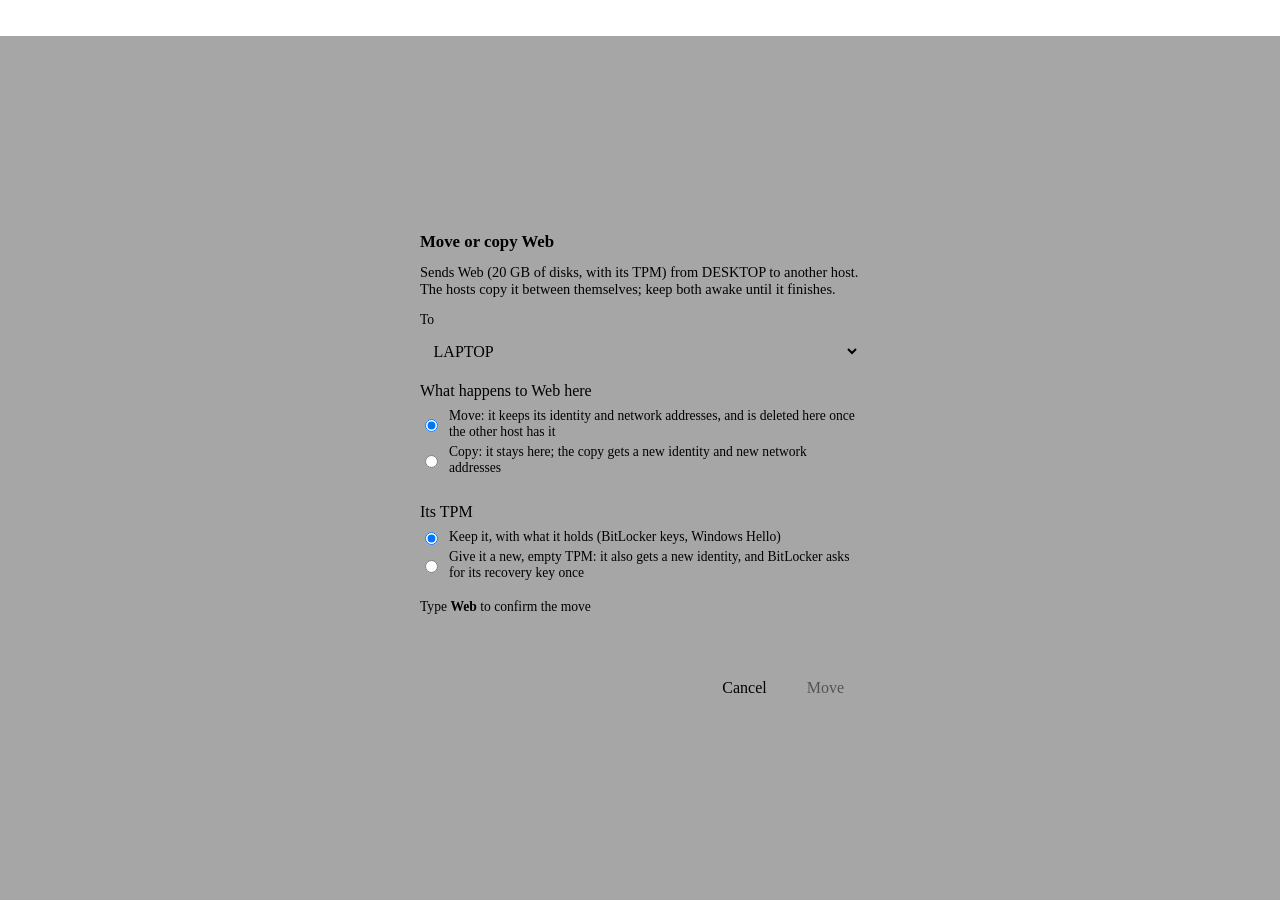
Test: TransferVmDialog › sends the TPM choice to both hosts
This screenshot has width=1280, height=900.
Click the radio button labelled "Copy" at (432, 462), box [425,455,438,468]
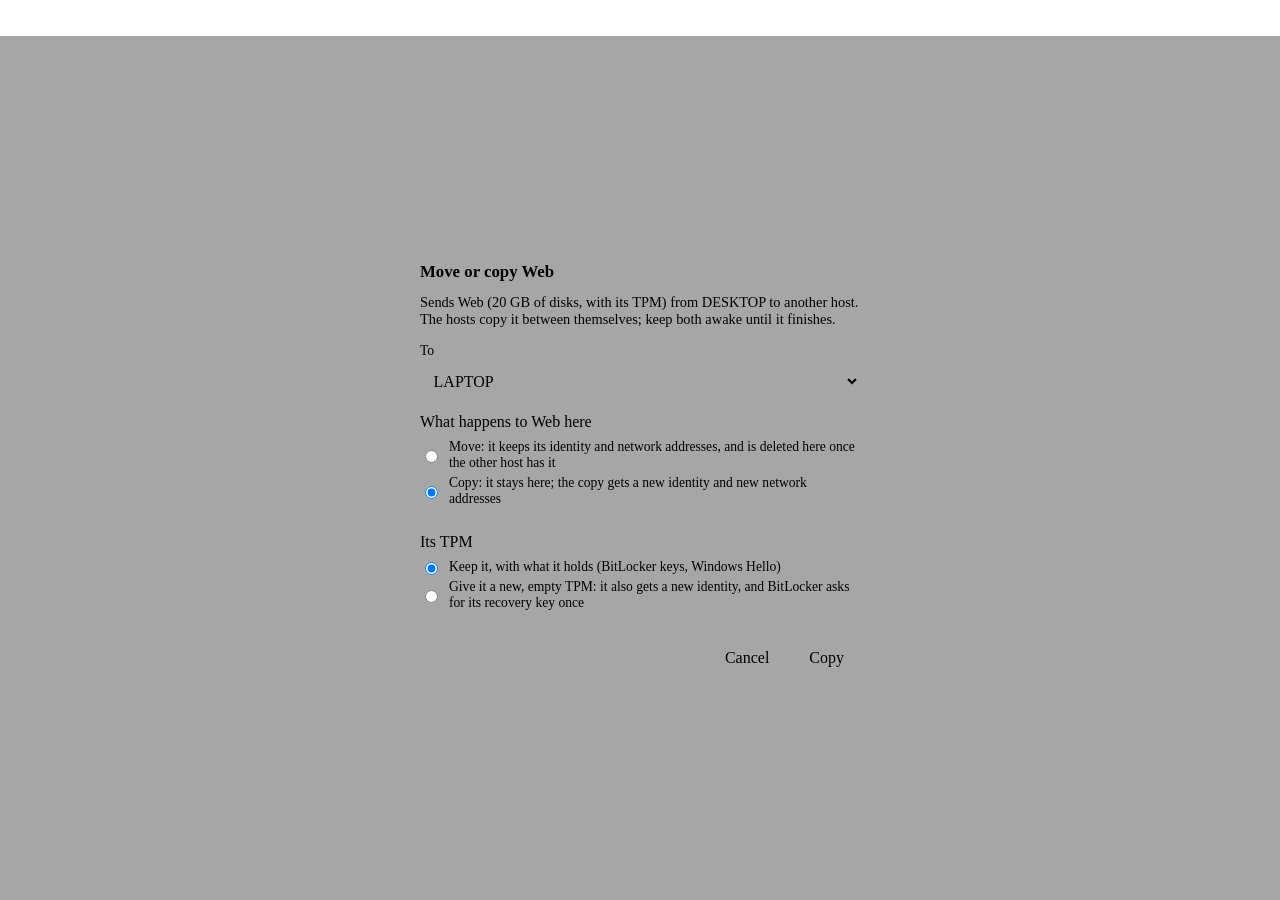
Click the radio button labelled "new, empty TPM" at (432, 597), box [425,590,438,603]
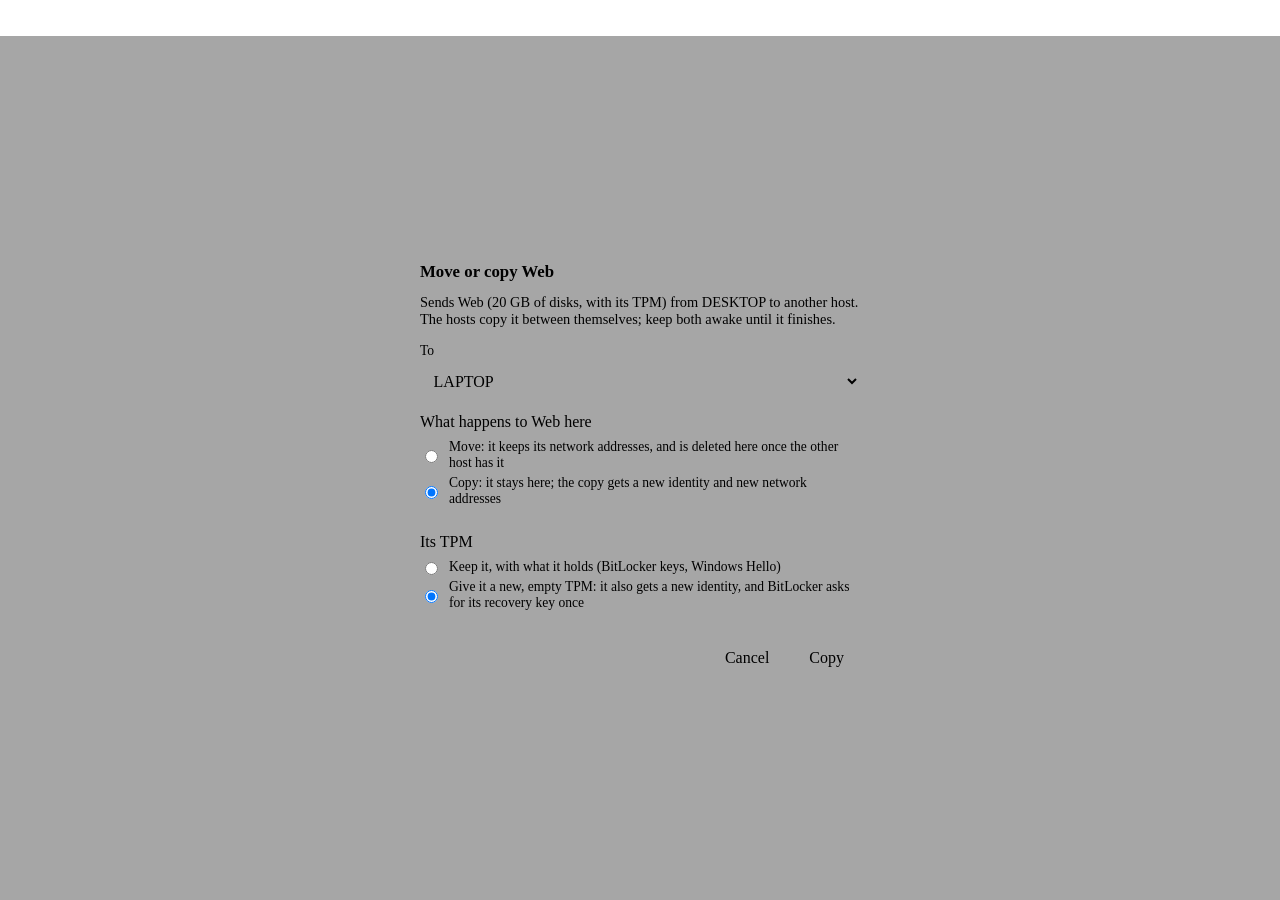
Click the button "Copy" at (827, 658), box [793,642,860,674]
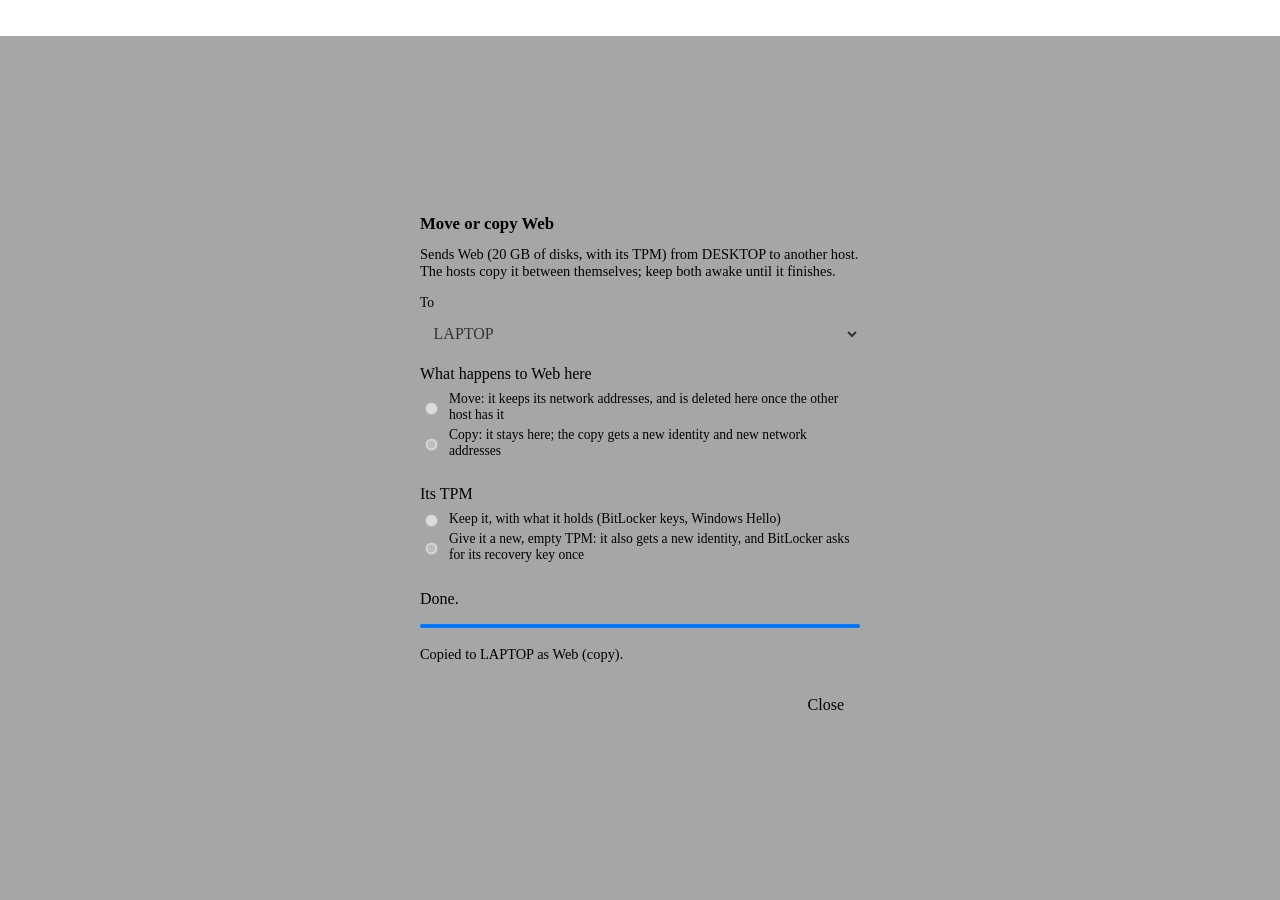
Expected: the text "Copied to LAPTOP as Web (copy)." is shown, [420,646,623,662]
